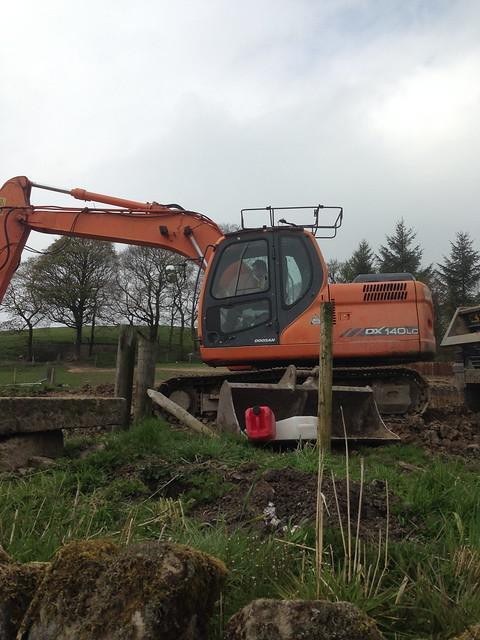EXCAVATORS: (0, 147, 435, 442)
